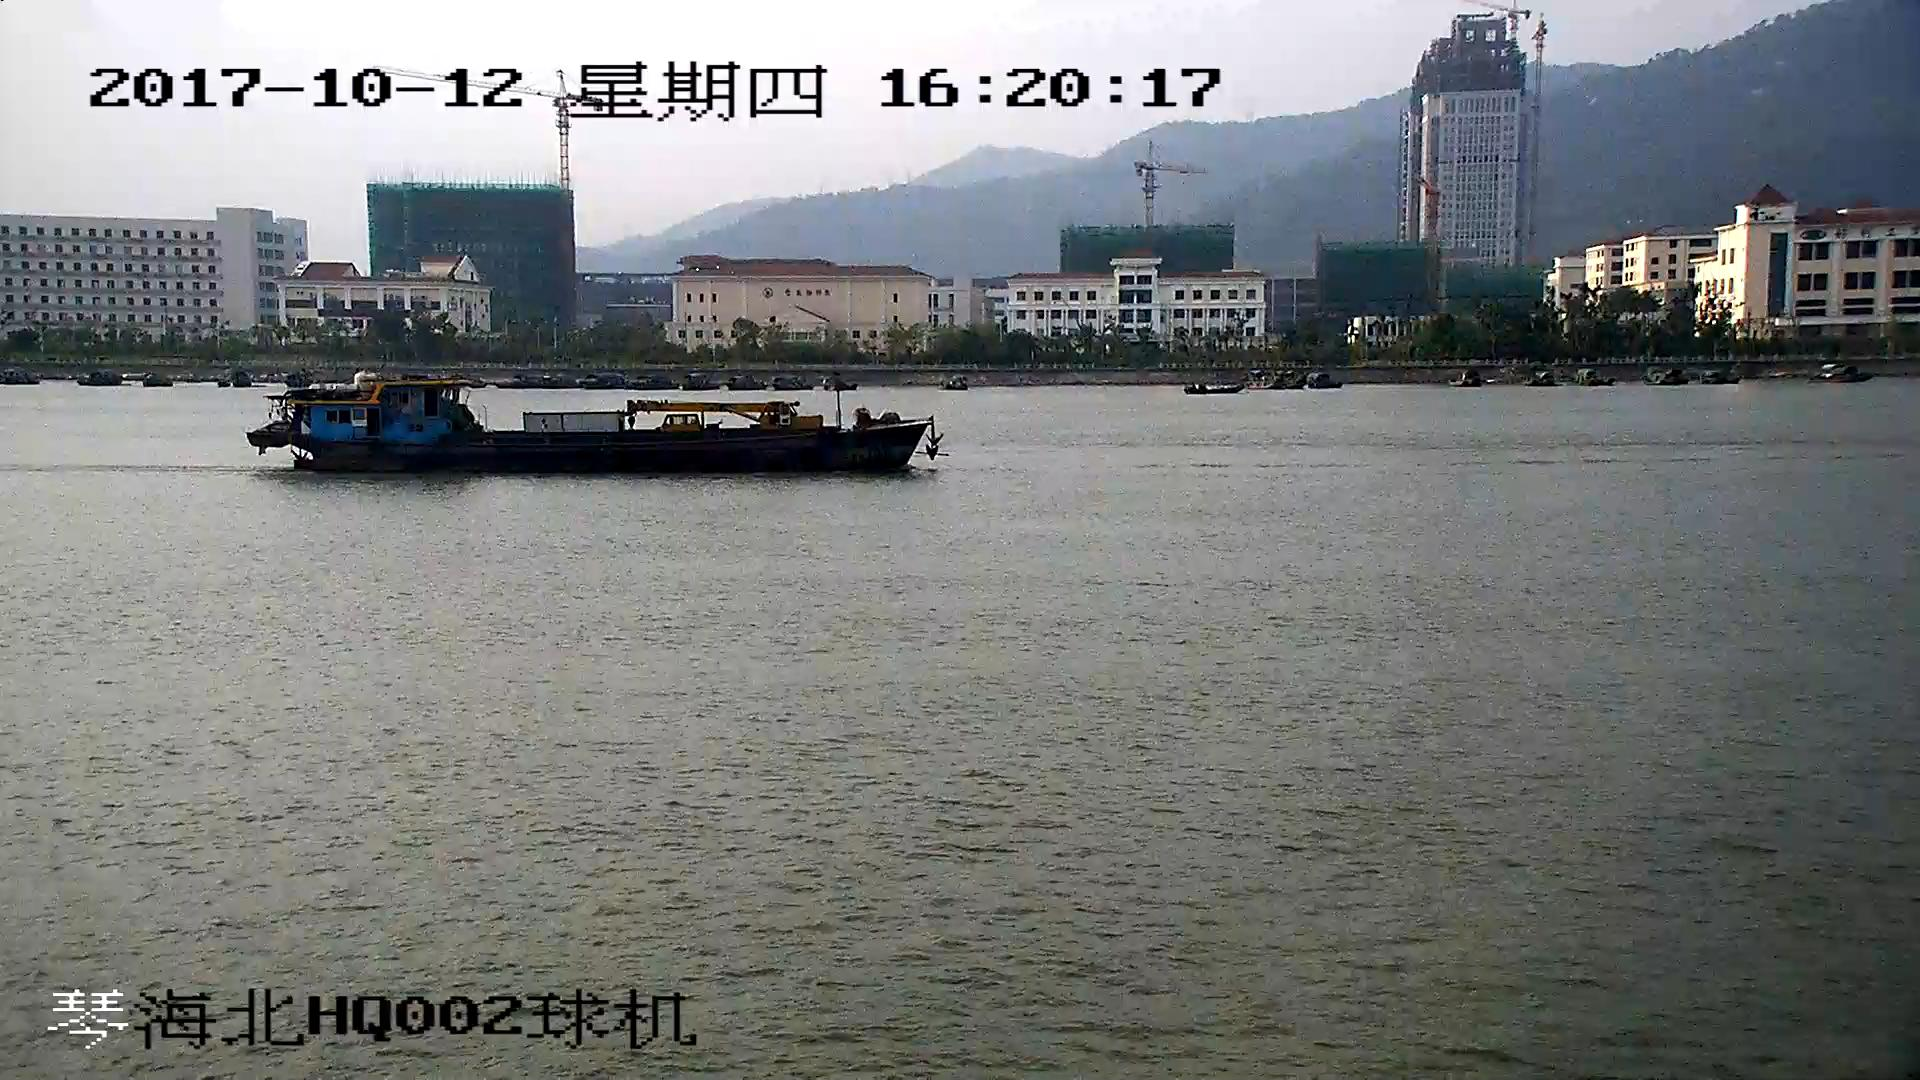fishing boat: (246, 375, 940, 477)
